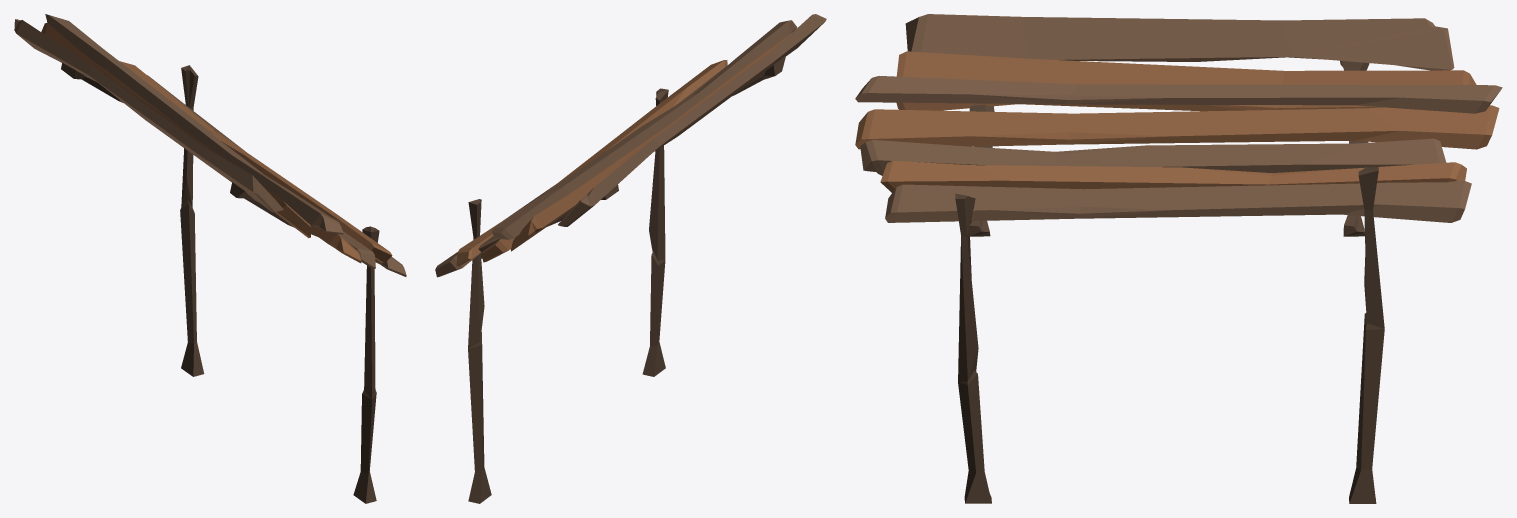
Rendered from SM_L_Home_wood_pergola.fbx.
3 views of the same model, side by side, from view 1: azimuth 30°, elevation 25°; view 2: azimuth 150°, elevation 25°; view 3: azimuth 270°, elevation 25° (orthographic). The views are drawn at different scales.
Visible parts, largest first — view 1: SM_Home_Wood_Pergola; view 2: SM_Home_Wood_Pergola; view 3: SM_Home_Wood_Pergola.
Part boxes in pixels (x1,y1,x2,y2): SM_Home_Wood_Pergola: (14, 14, 406, 503); SM_Home_Wood_Pergola: (435, 14, 826, 503); SM_Home_Wood_Pergola: (855, 14, 1502, 503).
Size of the model in its own units: 76.87 by 180 by 256.
